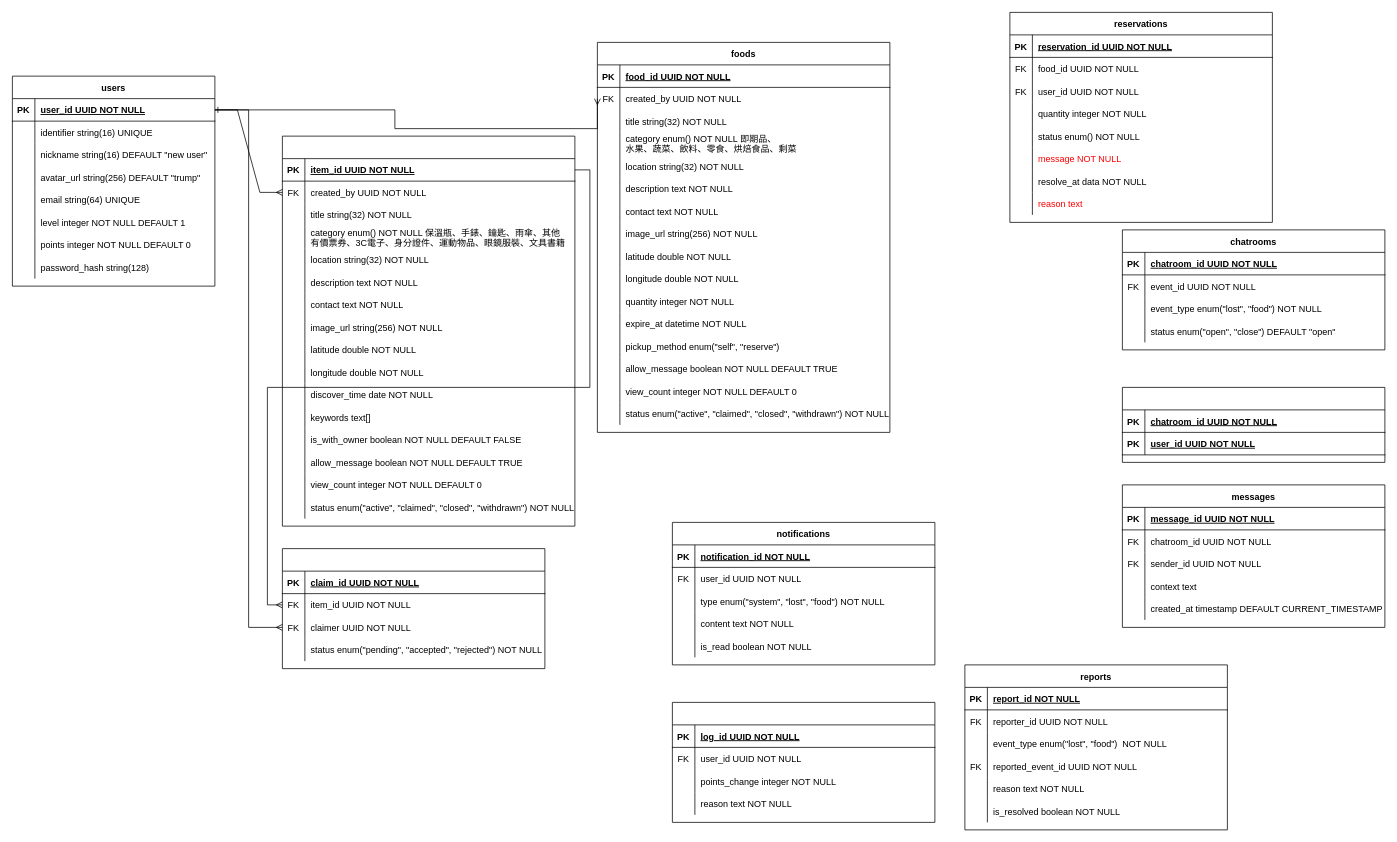
This 1397x842 diagram has some shape labels left out. Each missing label, with the box of its shape:
chatroom_paritcipants: (1122, 387, 1385, 462)
item_claims: (282, 548, 545, 669)
items: (282, 135, 575, 526)
user_point_logs: (672, 702, 935, 822)
